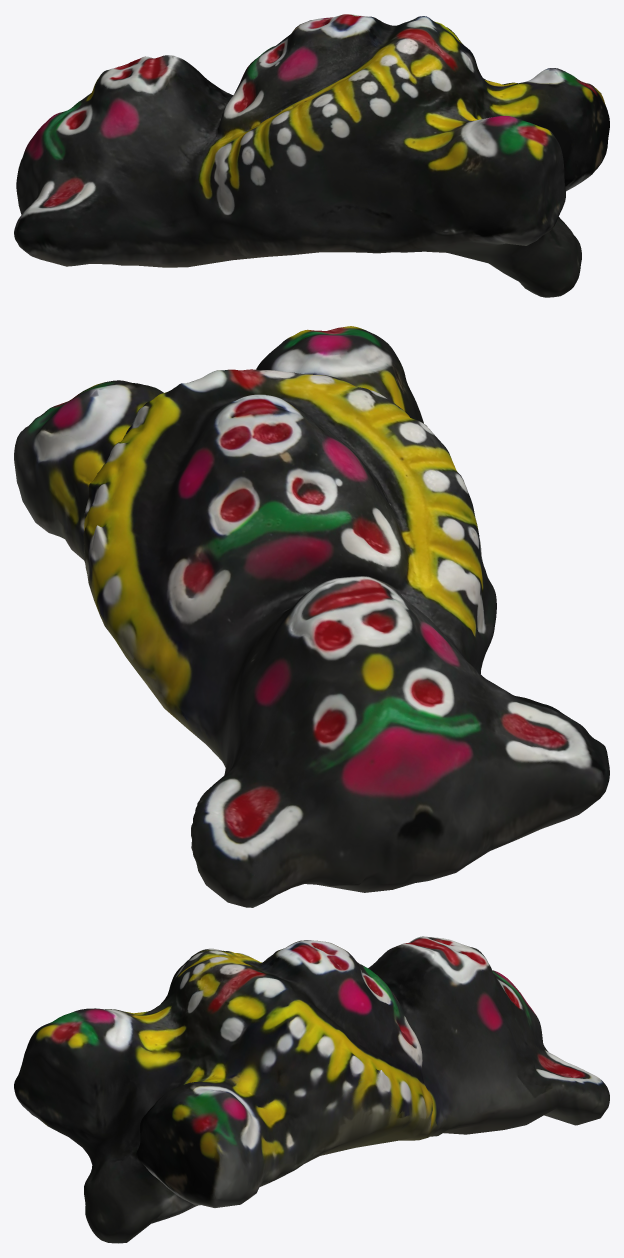
3 renders of one model, top to bottom at view 1: azimuth 30°, elevation 25°; view 2: azimuth 150°, elevation 25°; view 3: azimuth 270°, elevation 25°, orthographic. The views are drawn at different scales.
Bounding box in the file's own units: 0.7858 × 0.3513 × 0.7881.
Materials: 1 (1 with a texture image).
